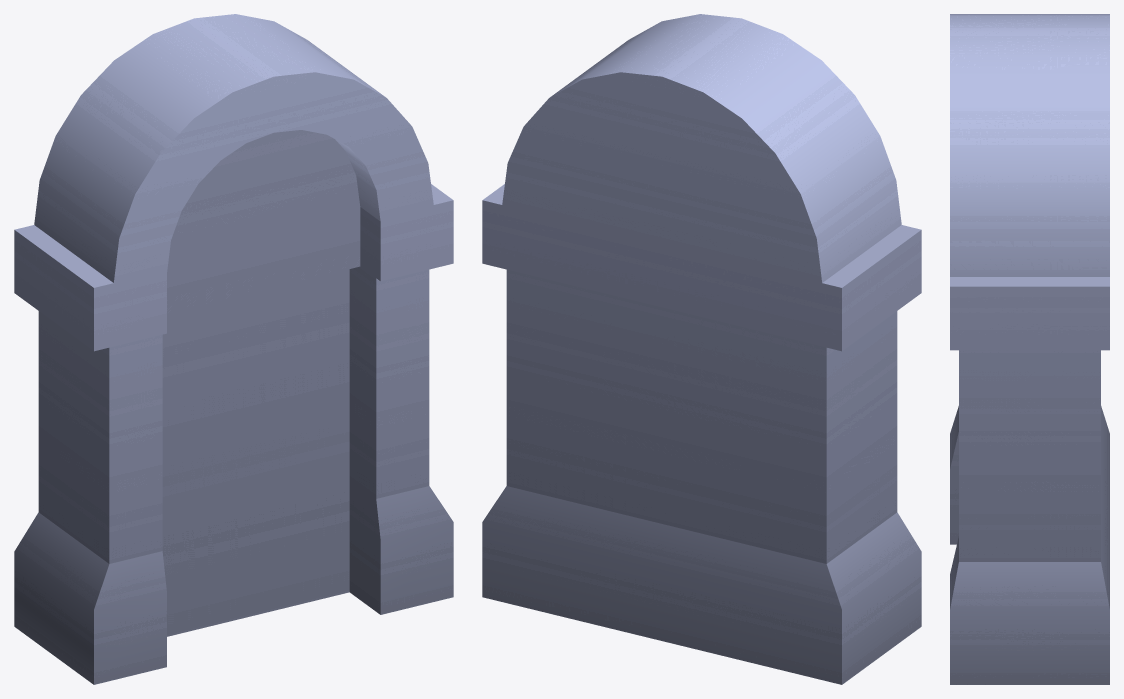
File: gravestone1.glb
The picture shows the model from 3 angles, left to right: view 1: azimuth 30°, elevation 25°; view 2: azimuth 150°, elevation 25°; view 3: azimuth 270°, elevation 25°; orthographic projection.
Visible parts, largest first — view 1: gravestone-round; view 2: gravestone-round; view 3: gravestone-round.
Boxes of the visible parts, <box> form: gravestone-round: <box>14,14,453,684</box>; gravestone-round: <box>482,14,921,684</box>; gravestone-round: <box>950,14,1109,684</box>.
Size of the model in its own units: 0.39 by 0.585 by 0.1495.
Materials: 1 (1 with a texture image).
